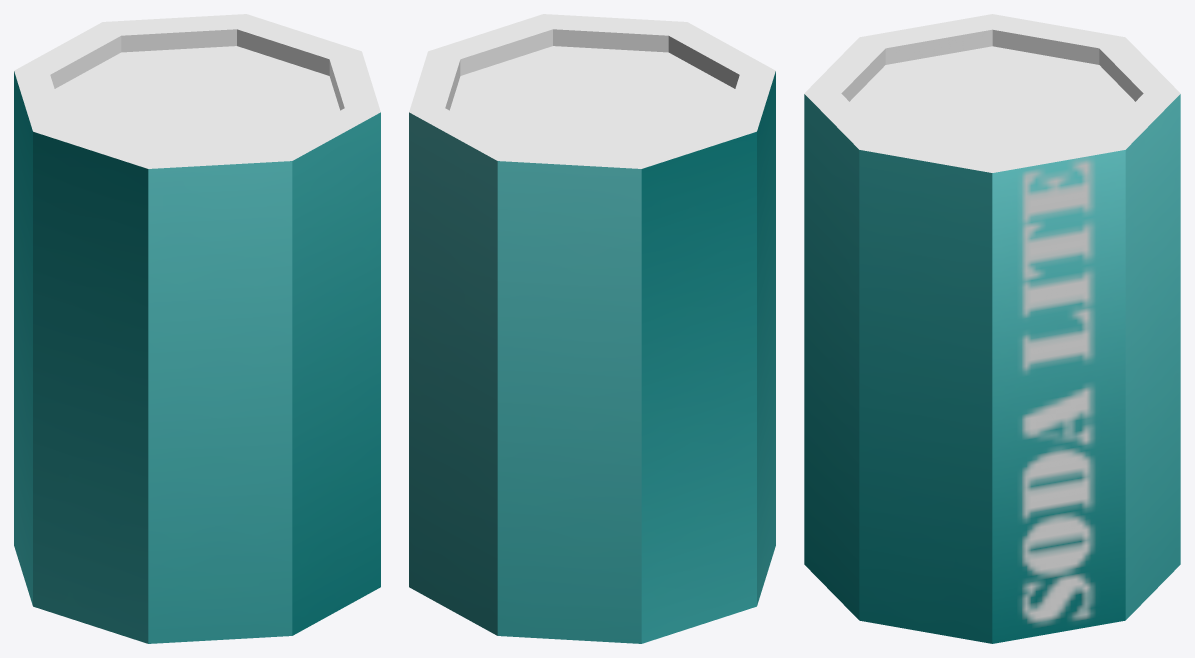
The model's file is Soda2.obj.
3 renders of one model, left to right at view 1: azimuth 30°, elevation 25°; view 2: azimuth 150°, elevation 25°; view 3: azimuth 270°, elevation 25°, orthographic.
Parts seen in each view (by area): view 1: Soda2_Cylinder.002; view 2: Soda2_Cylinder.002; view 3: Soda2_Cylinder.002.
Part boxes in pixels (bbox=[...]): Soda2_Cylinder.002: bbox=[14, 14, 380, 643]; Soda2_Cylinder.002: bbox=[409, 14, 775, 643]; Soda2_Cylinder.002: bbox=[804, 14, 1180, 643].
Size of the model in its own units: 0.1974 by 0.2724 by 0.1974.
